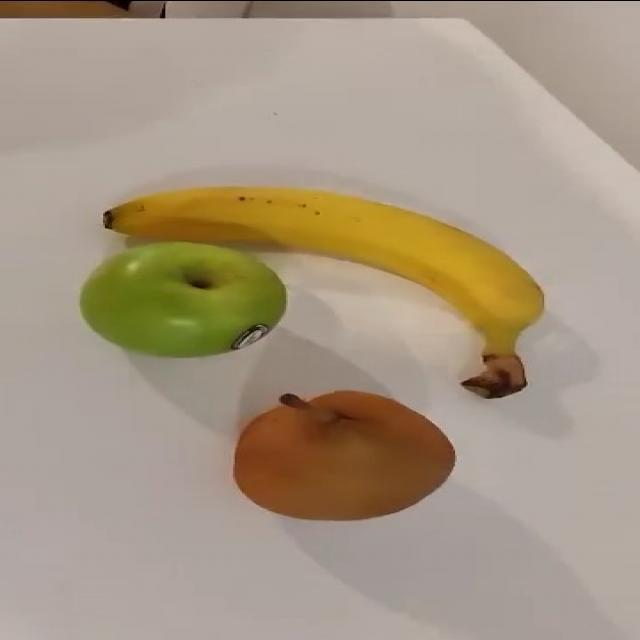Apple: (232, 389, 456, 521), (79, 239, 286, 358)
Banana: (101, 184, 545, 399)
